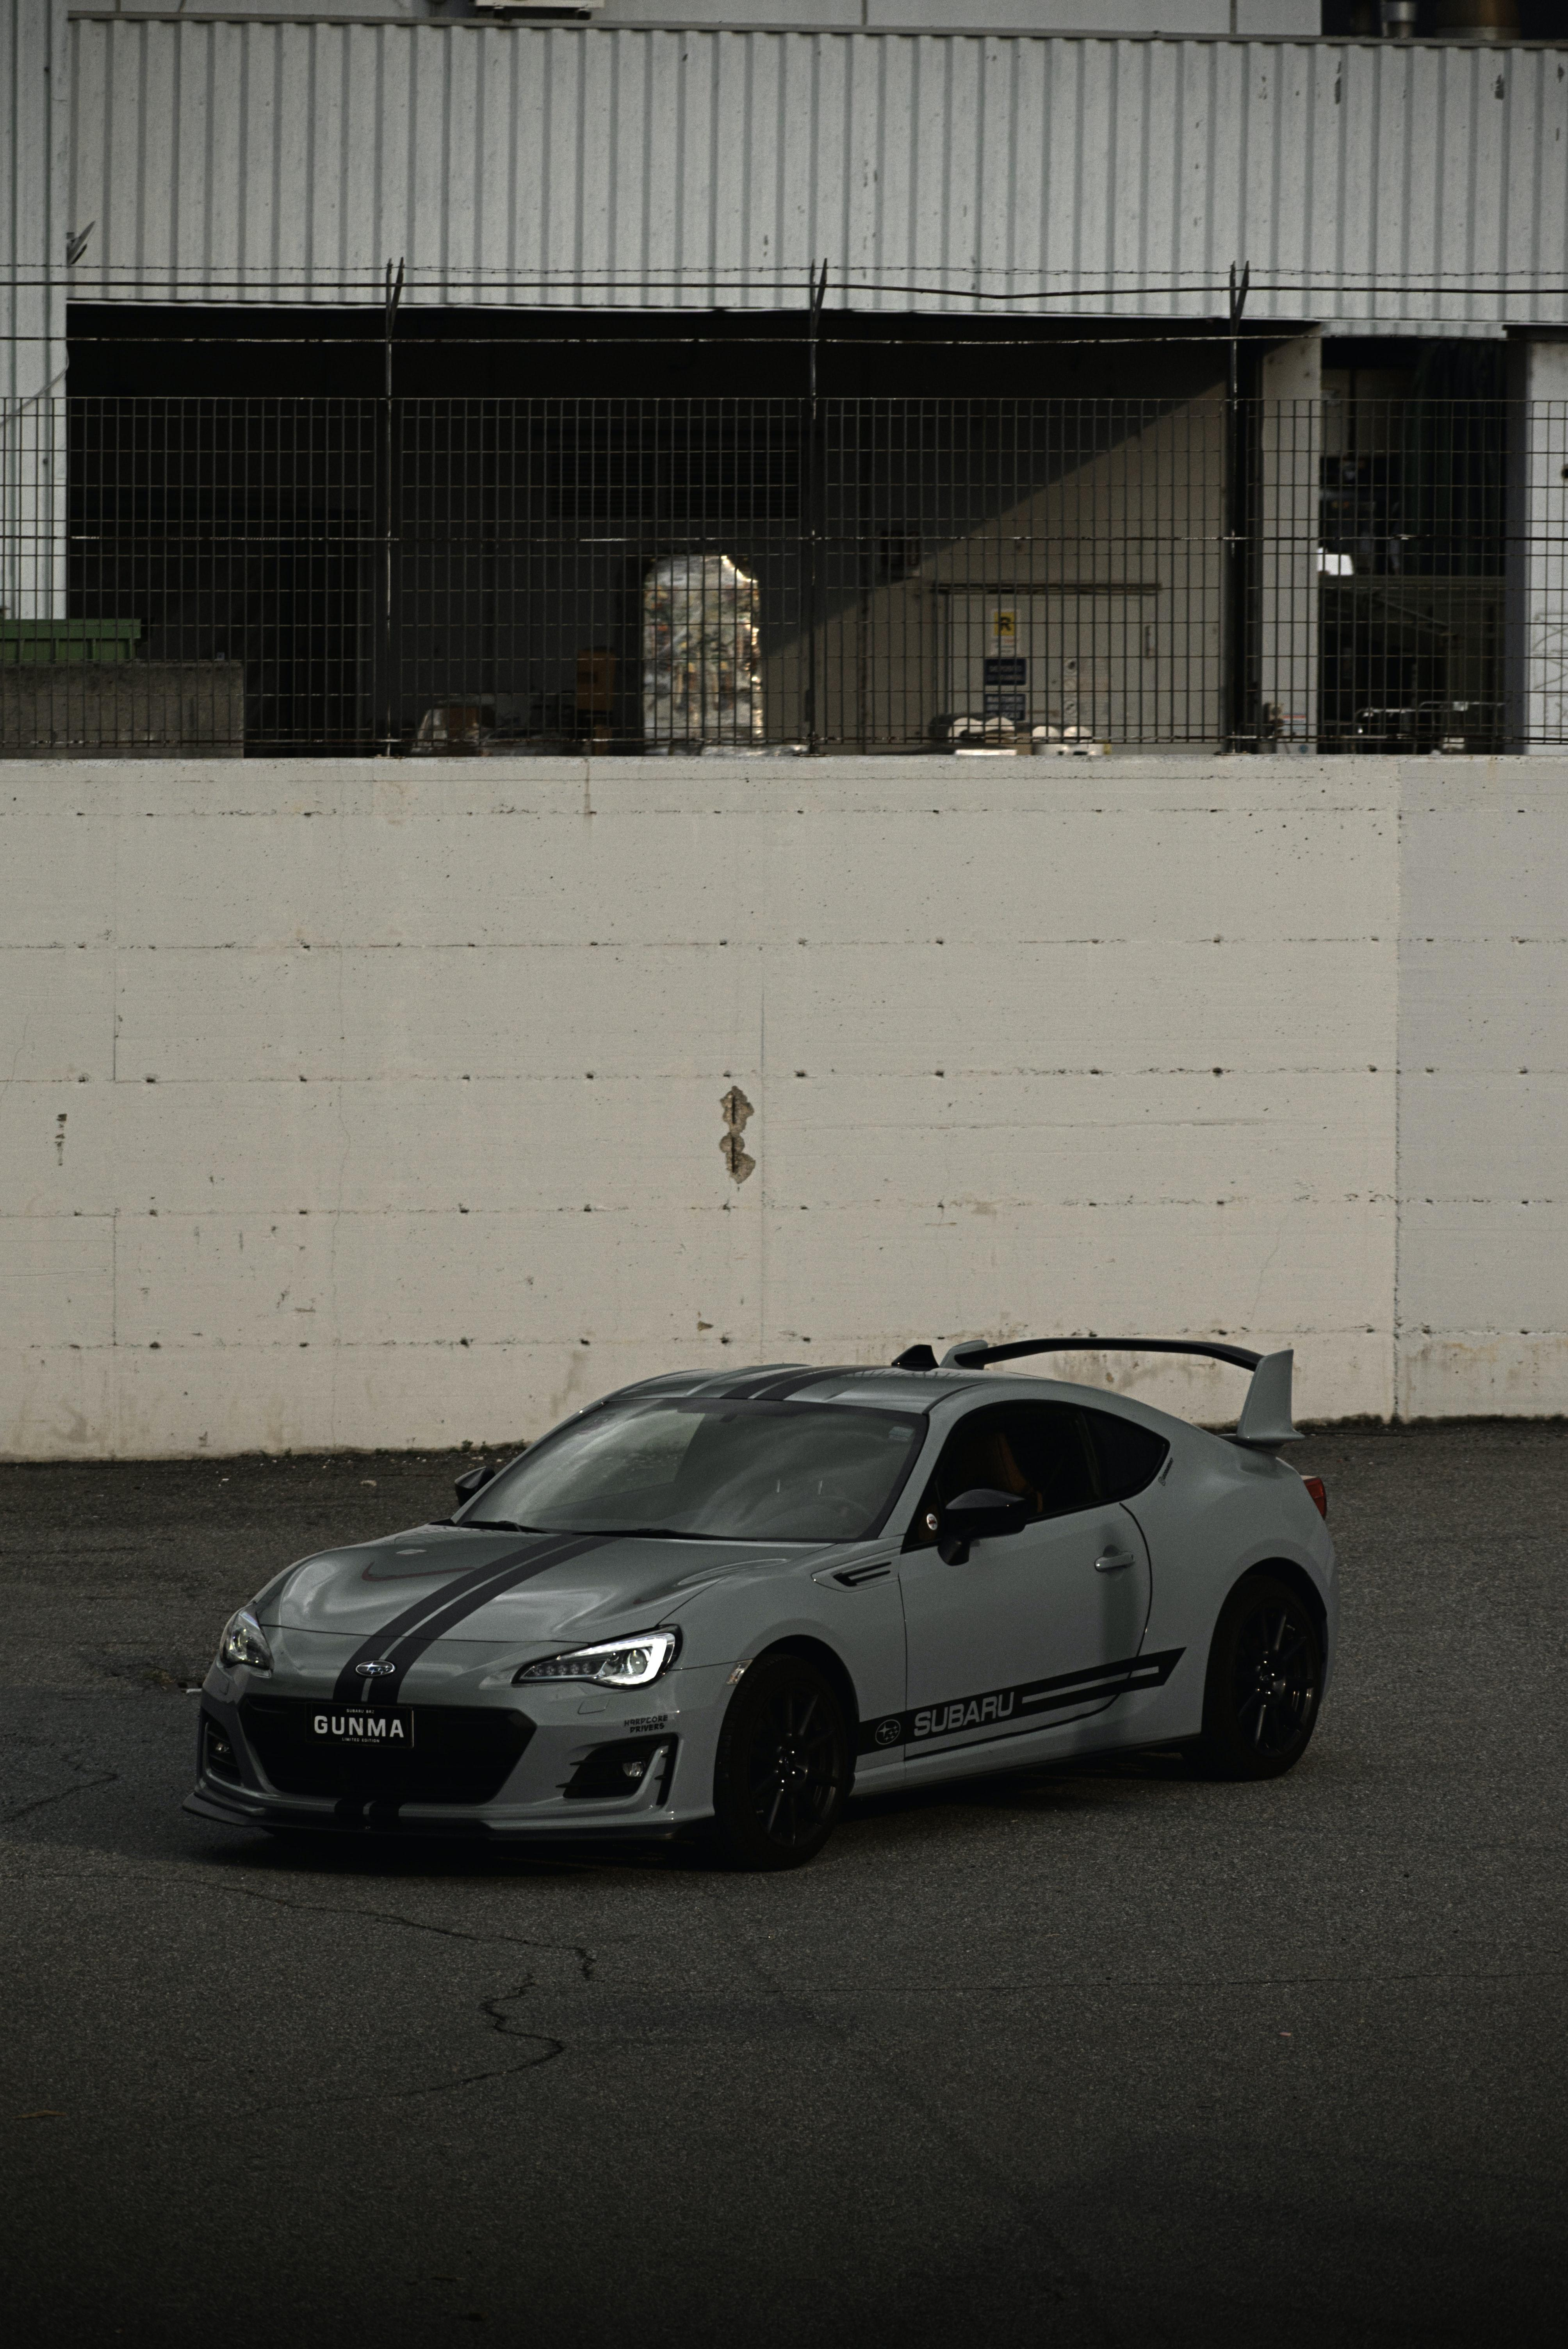subaru: (331, 1642, 413, 1700)
